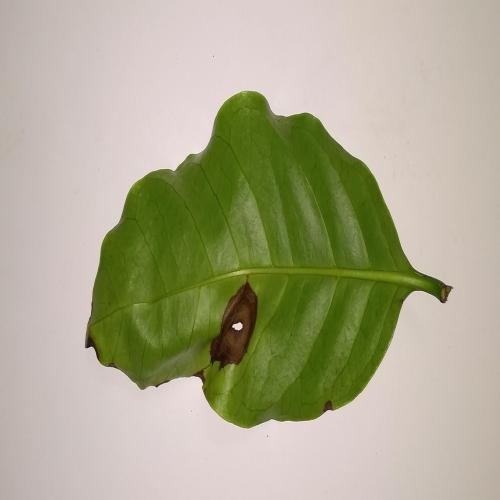miner: (210, 281, 258, 369)
